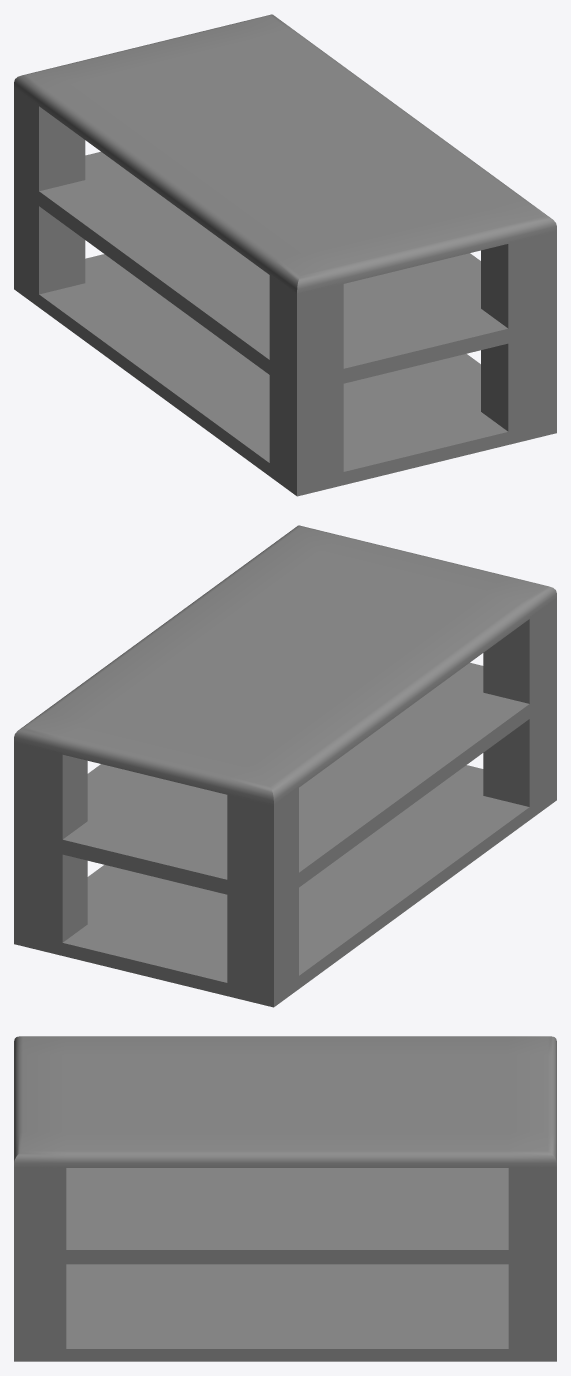
The model's file is Small Counter.fbx.
3 views of the same model, one above another, from view 1: azimuth 30°, elevation 25°; view 2: azimuth 150°, elevation 25°; view 3: azimuth 270°, elevation 25° (orthographic). The views are drawn at different scales.
Visible parts, largest first — view 1: Small Counter; view 2: Small Counter; view 3: Small Counter.
Part boxes in pixels (box(x1,y1,x2,y2)): Small Counter: box(14, 14, 556, 496); Small Counter: box(14, 525, 556, 1007); Small Counter: box(14, 1036, 556, 1361).
Bounding box in the file's own units: 63.92 × 50.65 × 121.
